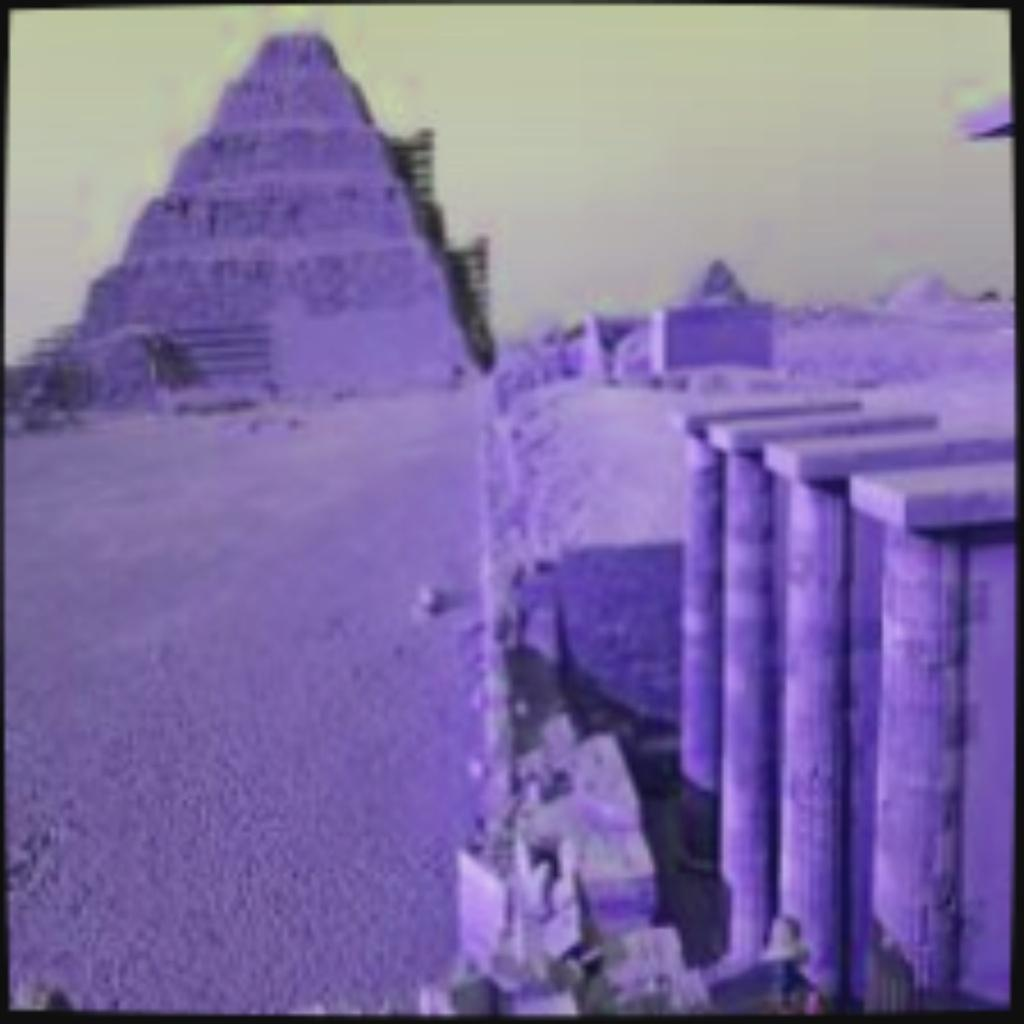Pyramid of Djoser: (36, 22, 498, 412)
